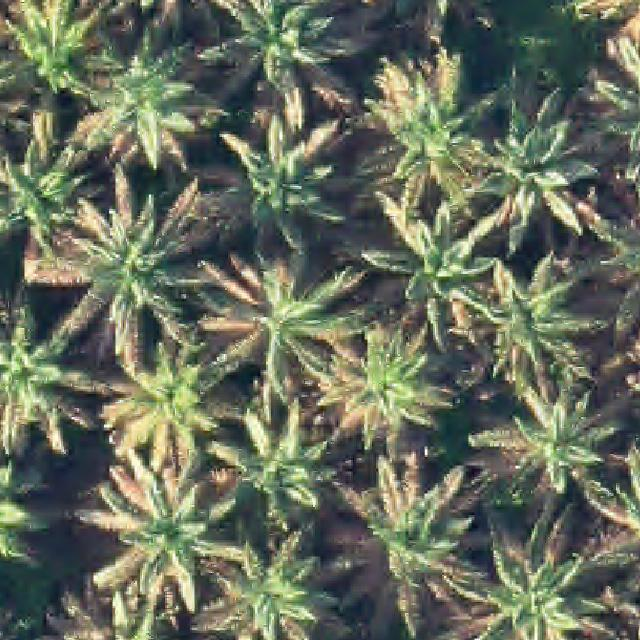oilpalm: (85, 455, 246, 623), (328, 455, 473, 623), (50, 193, 197, 349), (95, 325, 244, 478), (478, 372, 631, 518), (200, 242, 343, 394), (352, 180, 495, 324), (70, 33, 218, 172), (210, 399, 347, 544), (456, 257, 592, 396), (462, 95, 594, 236), (358, 56, 483, 199), (203, 0, 365, 110), (322, 314, 446, 455), (220, 116, 347, 251), (200, 530, 336, 640), (480, 547, 586, 640)
